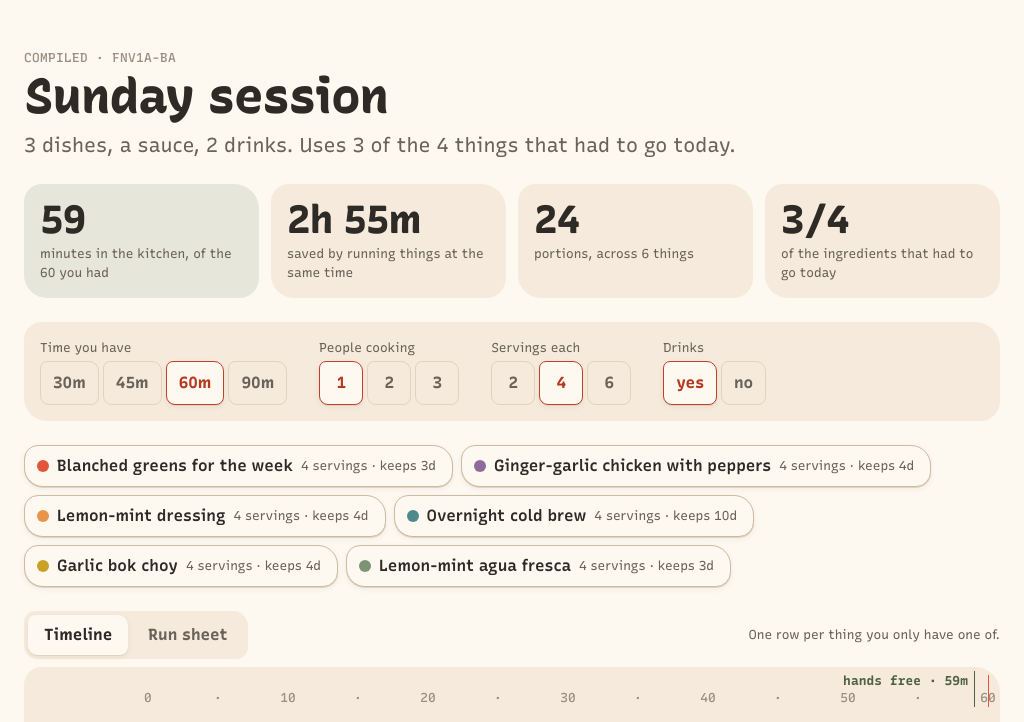
Scenario: the compiled-session screen › switches to a run sheet that covers the same session
Click the button "Run sheet" at [188, 635], box x1=132 y1=615 x2=244 y2=655
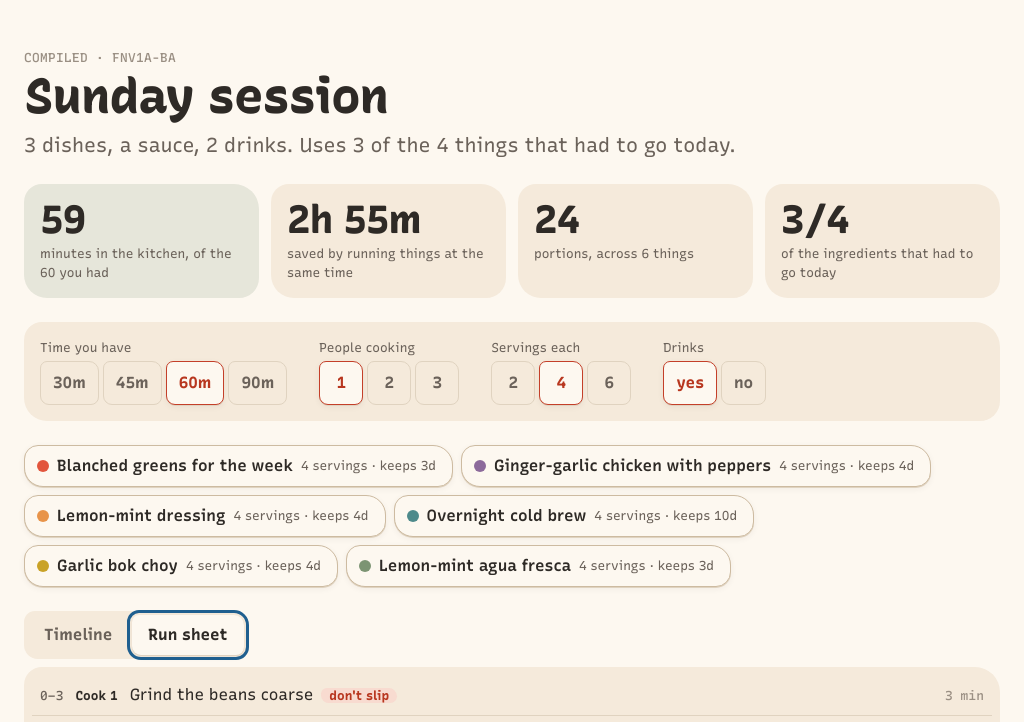
expect the text "Grind the beans coarse" is shown: met, box x1=130 y1=685 x2=313 y2=704
